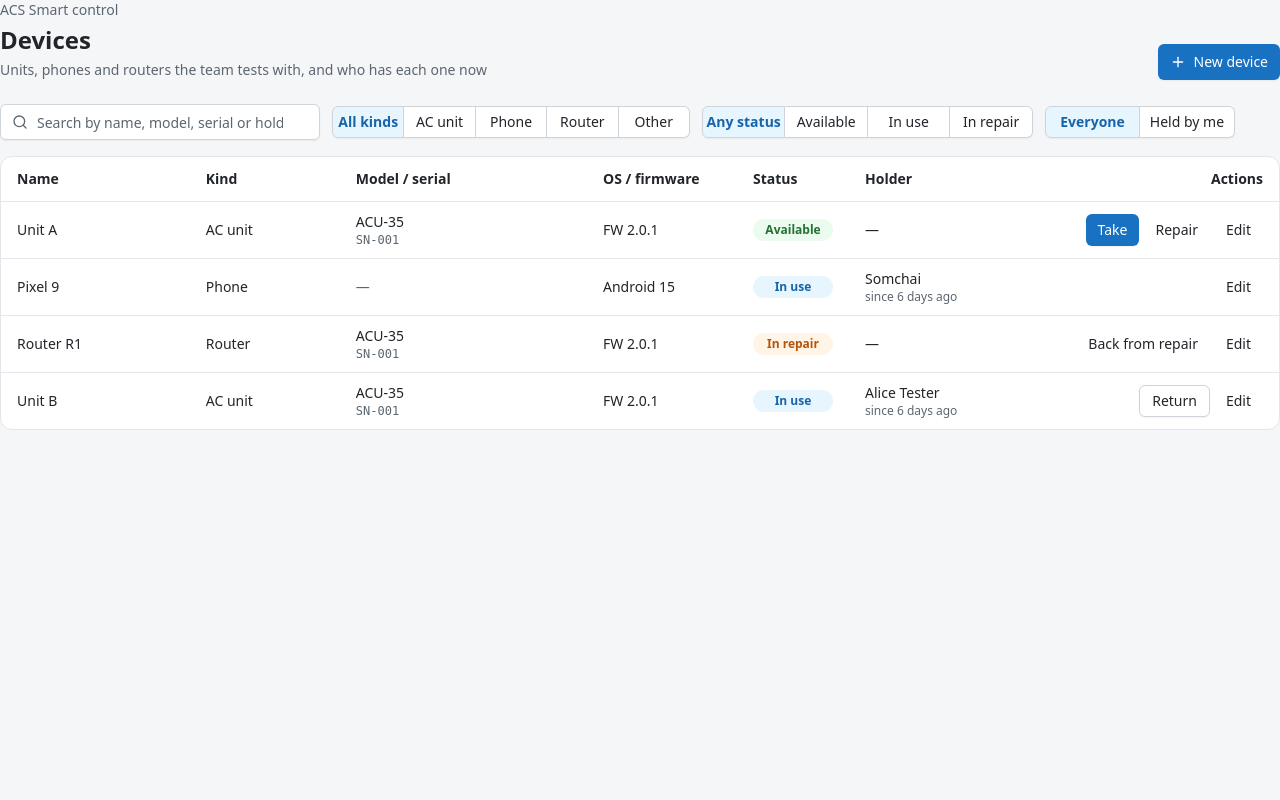
Test: Devices page › adds a device and reports a name already in use
Click the button "New device". click: click(1219, 62)
box: [1158, 44, 1279, 80]
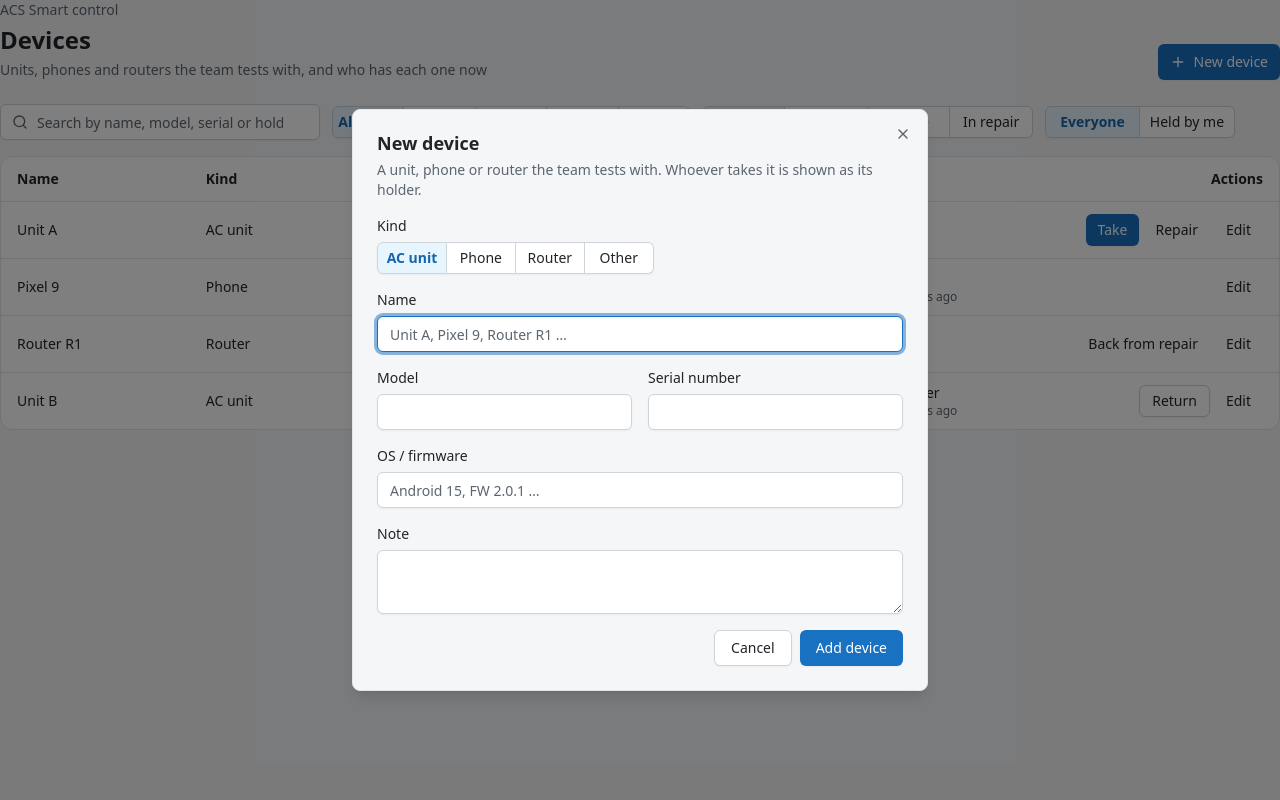
Click the button "Add device". click: click(851, 648)
box: [800, 630, 903, 666]
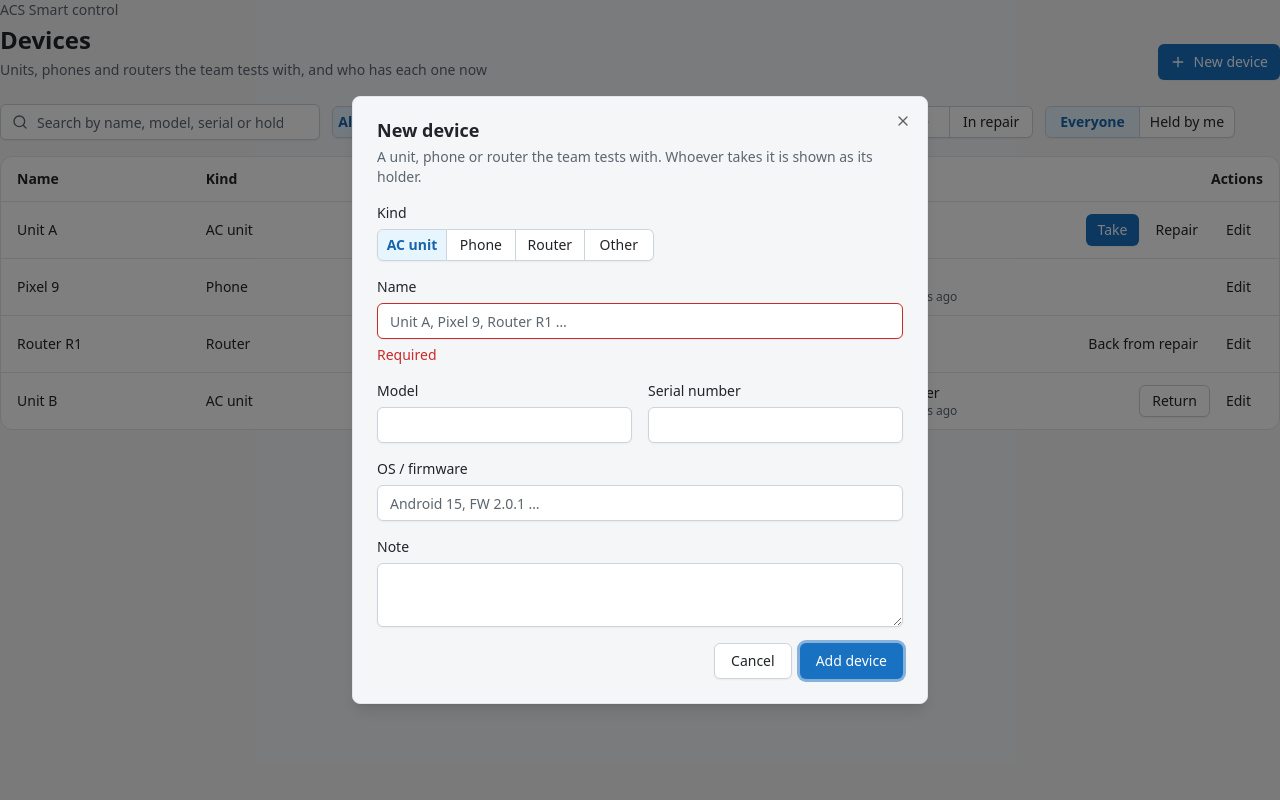
Now the text "Required" is shown, box [377, 345, 436, 364]
Type "Unit A" into the field labelled "Name". click: (640, 321)
box: [377, 303, 903, 339]
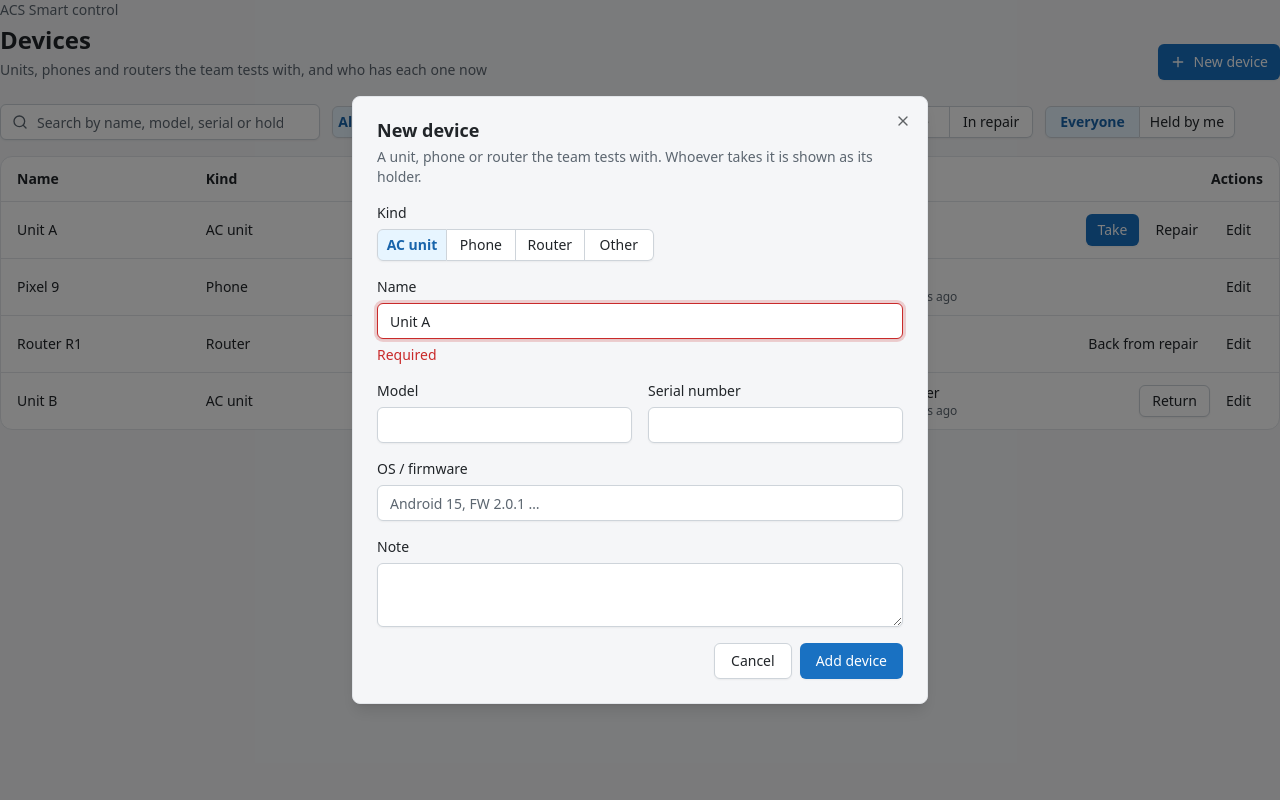
Click the radio button labelled "Router". click: click(550, 245)
box: [516, 229, 585, 261]
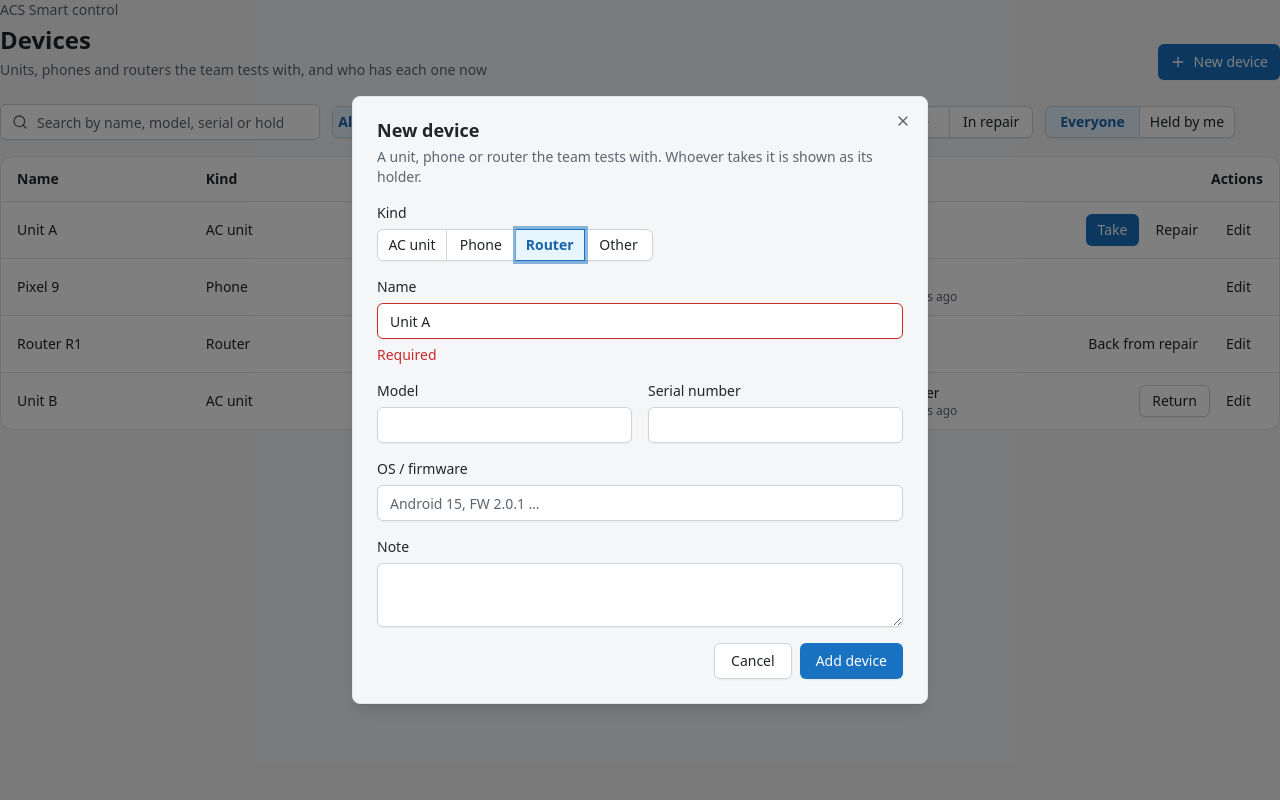
Click the button "Add device". click: click(851, 661)
box: [800, 643, 903, 679]
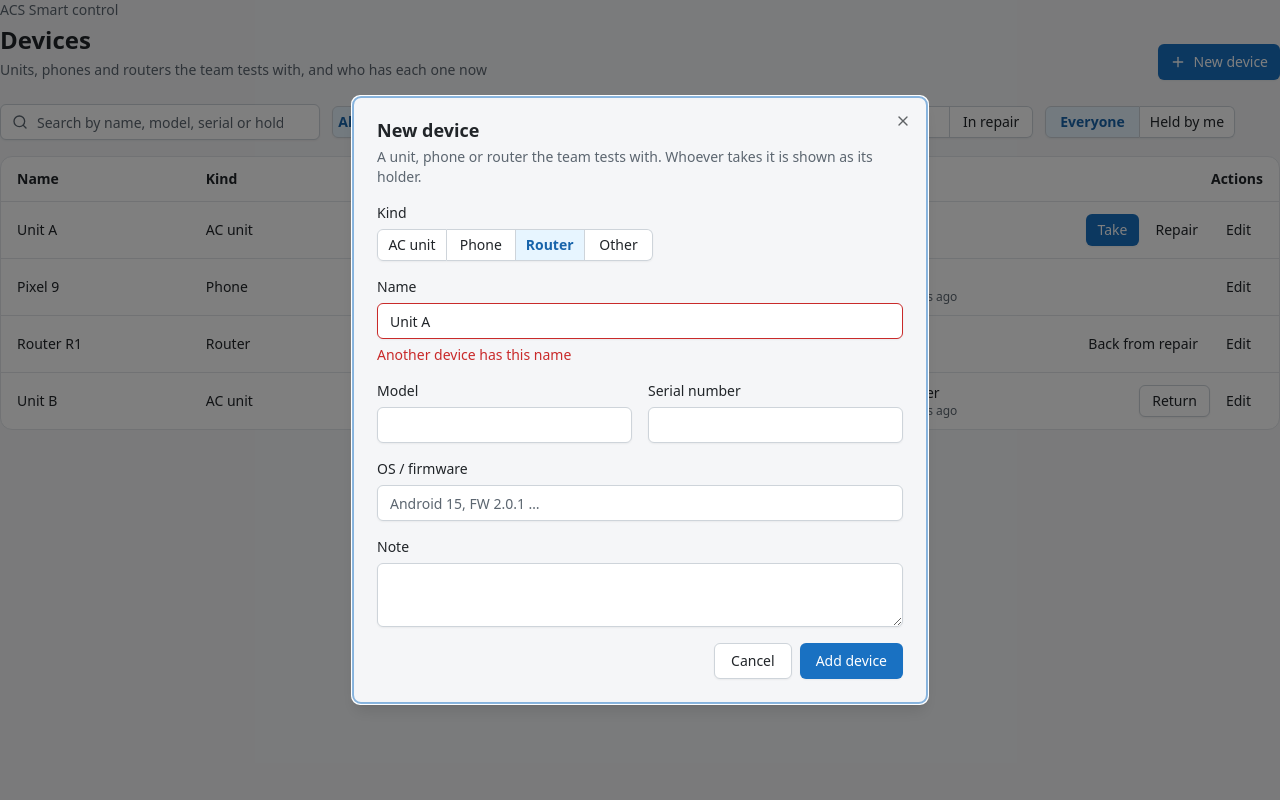
Now the text "Another device has this name" is shown, box [377, 345, 571, 364]
